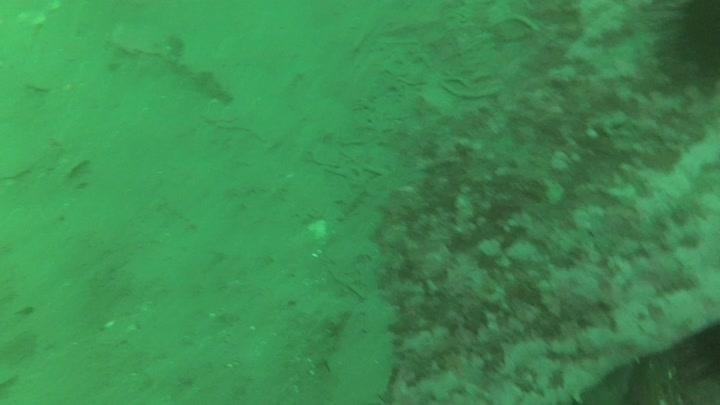echinus: (647, 1, 720, 97)
